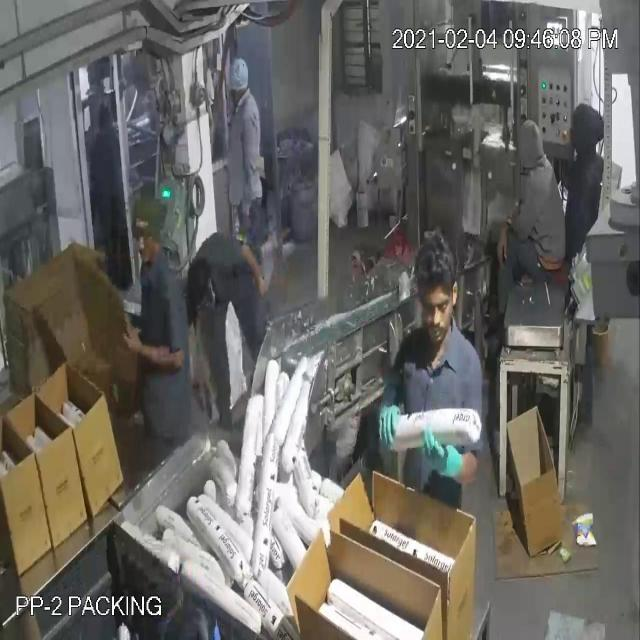No_Gloves: (20, 58, 505, 458)
